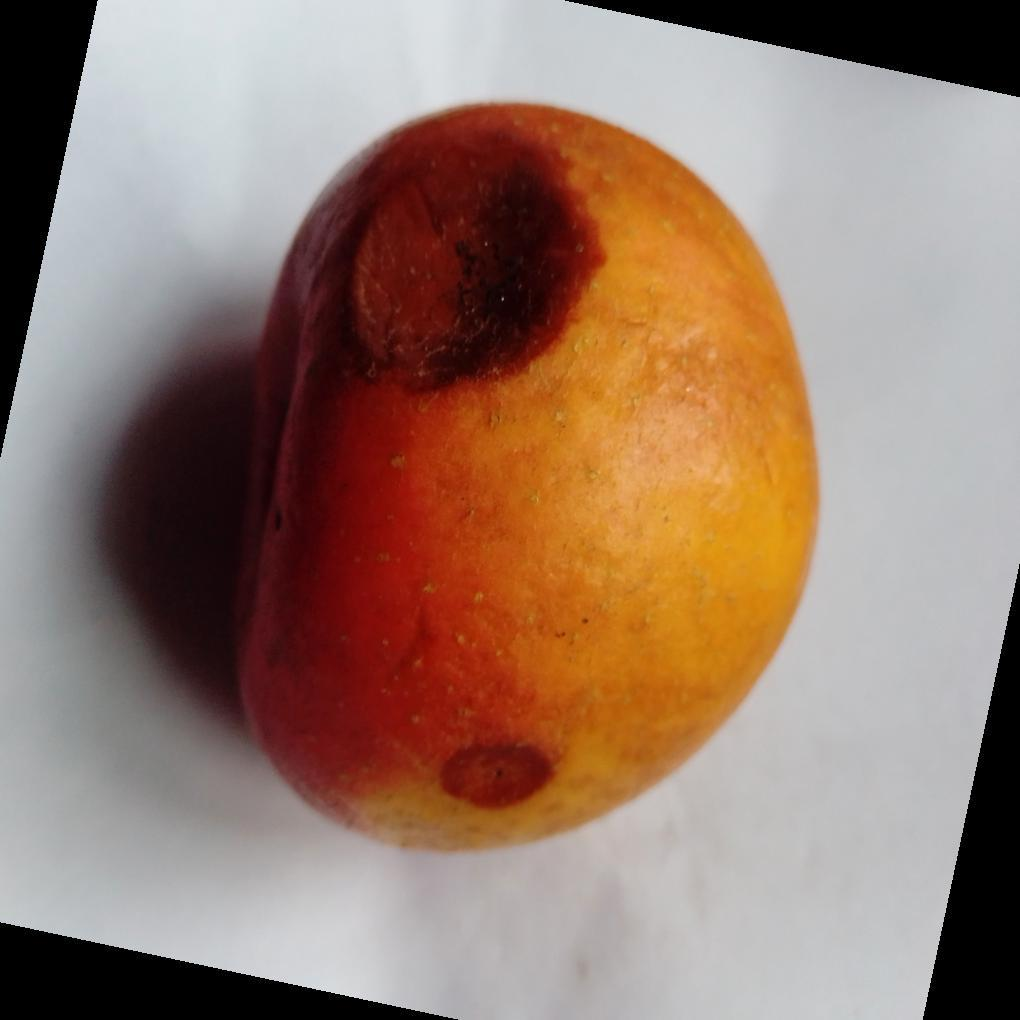FreshOrange: (228, 101, 823, 858)
